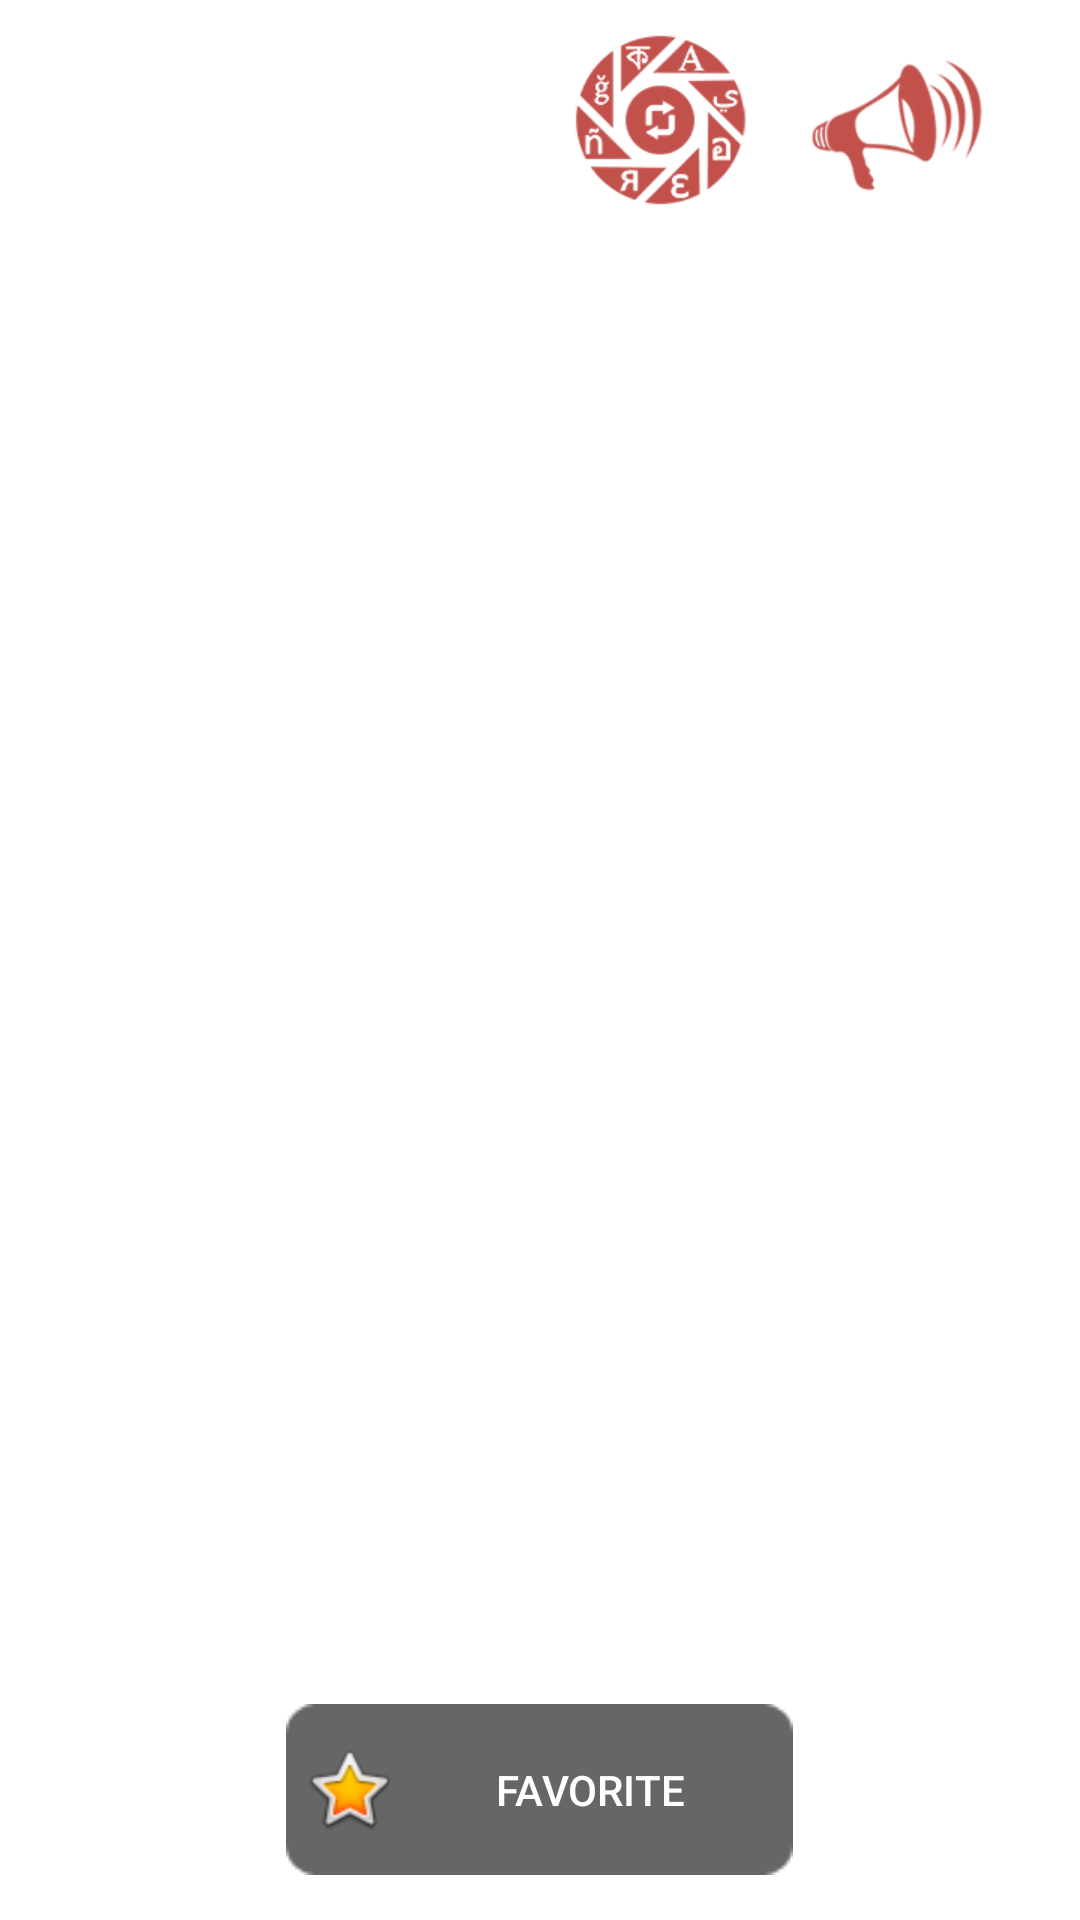

Named icons in this screenshot (1080w x 1920h) and their centers, (x=x, y=y):
loud speaker: (x=897, y=126)
multi lang: (x=661, y=120)
